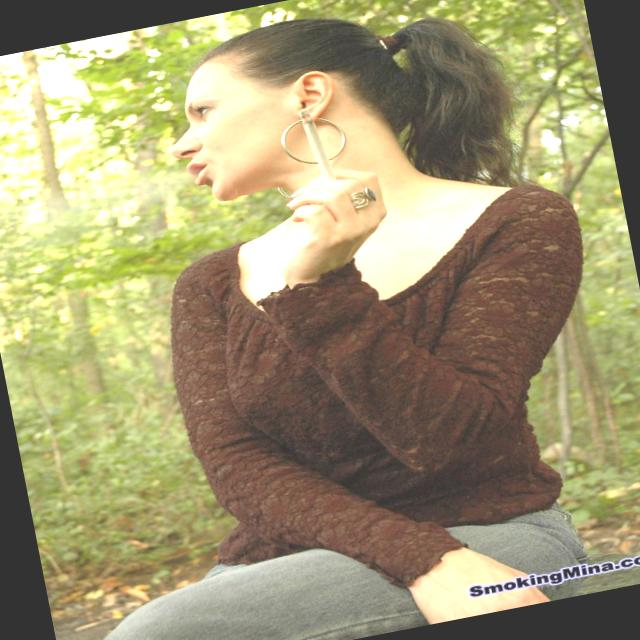smoke: (281, 99, 356, 182)
